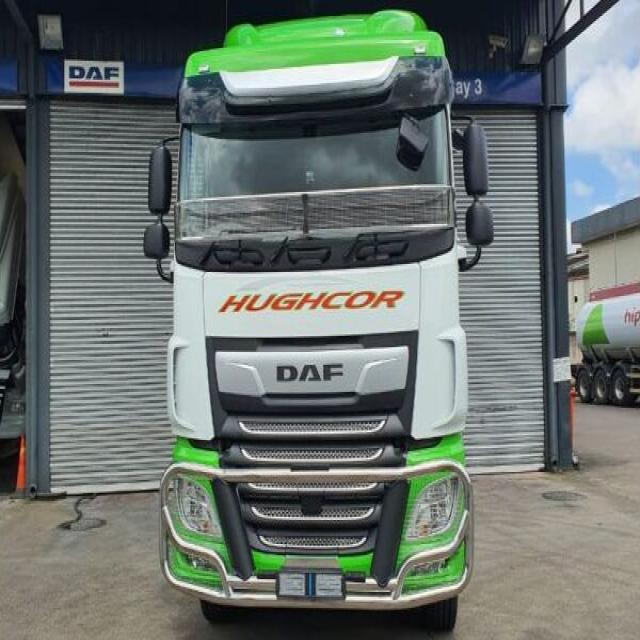Heavy Duty Truck: (142, 9, 495, 626)
